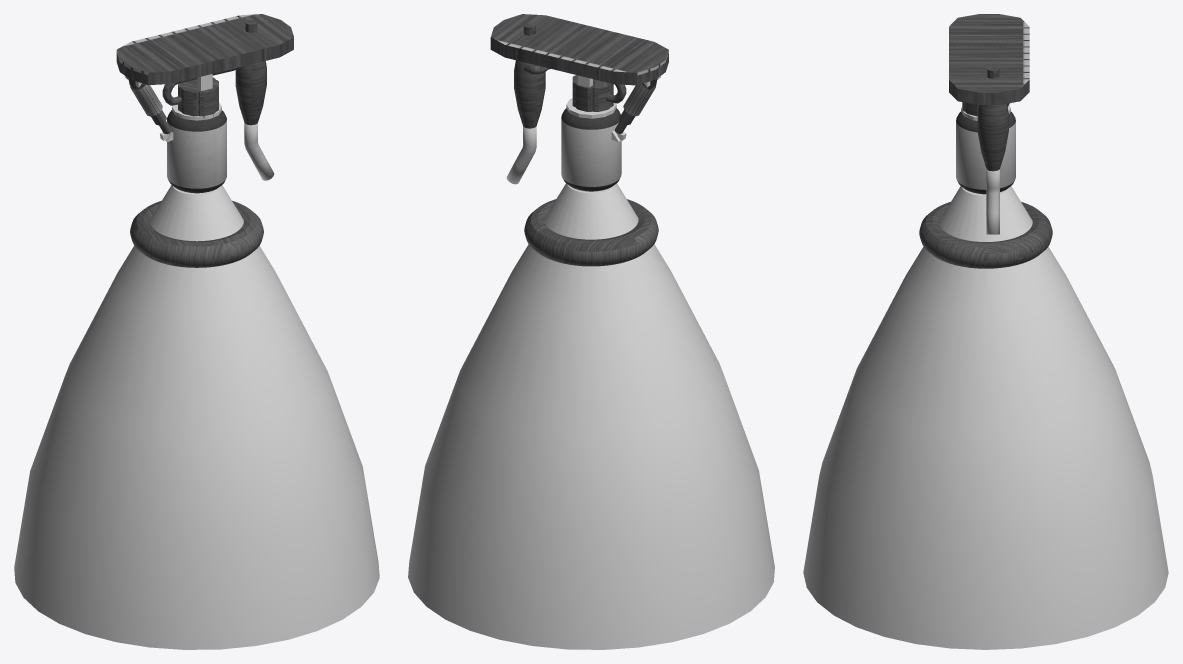
The model's file is Merlin_Single_Vacuume.fbx.
The picture shows the model from 3 angles, left to right: view 1: azimuth 30°, elevation 25°; view 2: azimuth 150°, elevation 25°; view 3: azimuth 270°, elevation 25°; orthographic projection.
Parts seen in each view (by area): view 1: Cylinder, Cylinder.005, Torus, Cylinder.002, Cylinder.001, Cylinder.007, Cylinder.010; view 2: Cylinder, Cylinder.005, Torus, Cylinder.002, Cylinder.001, Cylinder.007, Cylinder.010; view 3: Cylinder, Cylinder.005, Torus, Cylinder.001, Cylinder.002.
Boxes of the visible parts, bbox=[...] form: Cylinder: bbox=[14, 185, 379, 649]; Cylinder.005: bbox=[116, 14, 293, 85]; Torus: bbox=[130, 200, 263, 267]; Cylinder.002: bbox=[167, 110, 226, 193]; Cylinder.001: bbox=[162, 19, 274, 180]; Cylinder.007: bbox=[178, 77, 218, 118]; Cylinder.010: bbox=[128, 78, 171, 134]; Cylinder: bbox=[408, 183, 774, 649]; Cylinder.005: bbox=[490, 14, 668, 85]; Torus: bbox=[524, 199, 658, 266]; Cylinder.002: bbox=[561, 108, 621, 191]; Cylinder.001: bbox=[506, 22, 626, 184]; Cylinder.007: bbox=[572, 75, 613, 111]; Cylinder.010: bbox=[615, 78, 657, 133]; Cylinder: bbox=[803, 186, 1168, 649]; Cylinder.005: bbox=[949, 14, 1029, 104]; Torus: bbox=[919, 202, 1052, 268]; Cylinder.001: bbox=[977, 66, 1009, 234]; Cylinder.002: bbox=[956, 111, 1015, 194].
Size of what is drawn, in the model's own units: 141 by 227 by 141.
Materials: 5 (5 with a texture image).
